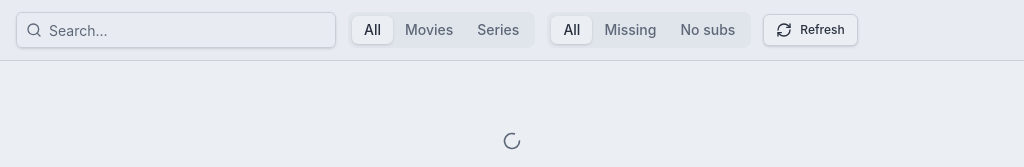
Test: WantedPage - Refresh race & watchdog regressions › watchdog keeps waiting (no error) when the persisted snapshot shows advancing progress
The width and height of the screenshot is (1024, 167).
Click the button "Refresh": coordinates (810, 30) [763,14,858,46]
Wait 62000 ms
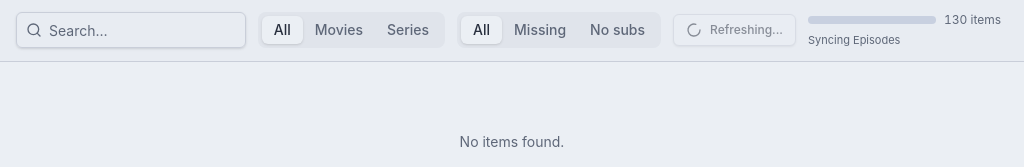
Now the text "50 items" is shown, box [944,12,1001,28]
